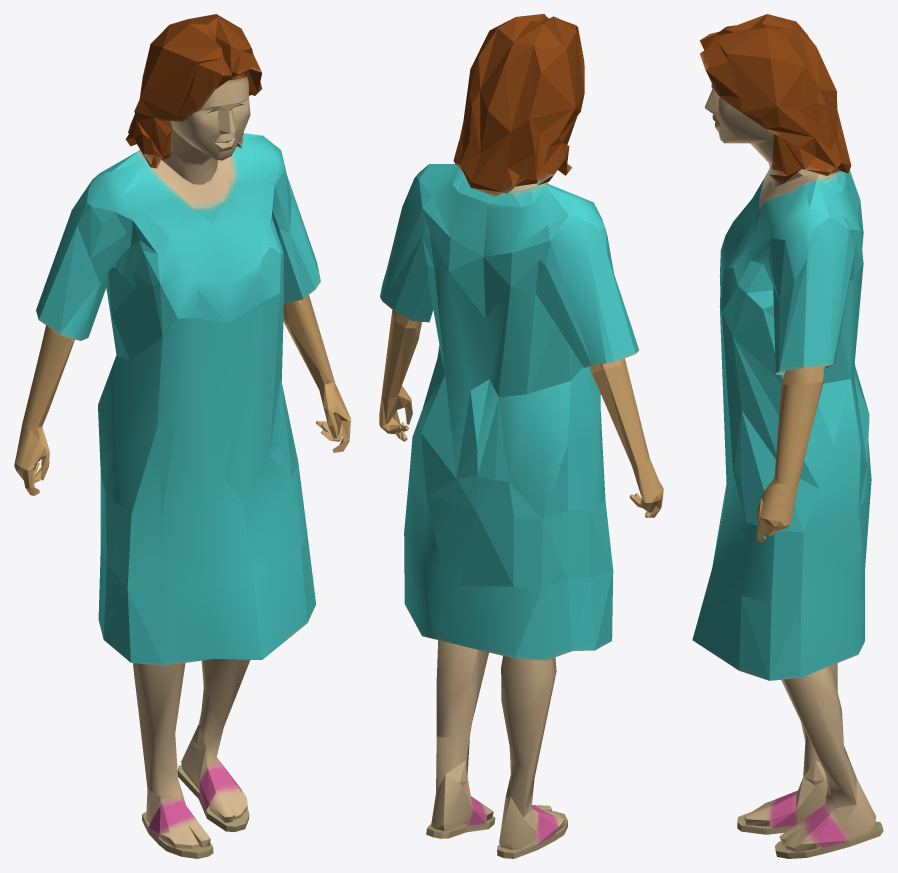
The model's file is Patient Female.fbx.
3 renders of one model, left to right at view 1: azimuth 30°, elevation 25°; view 2: azimuth 150°, elevation 25°; view 3: azimuth 270°, elevation 25°, orthographic. The views are drawn at different scales.
Parts seen in each view (by area): view 1: Patient_Female; view 2: Patient_Female; view 3: Patient_Female.
Part boxes in pixels (<box>): Patient_Female: <box>14,14,350,858</box>; Patient_Female: <box>379,14,663,858</box>; Patient_Female: <box>692,14,883,858</box>.
Size of the model in its own units: 0.6589 by 1.69 by 0.3588.
